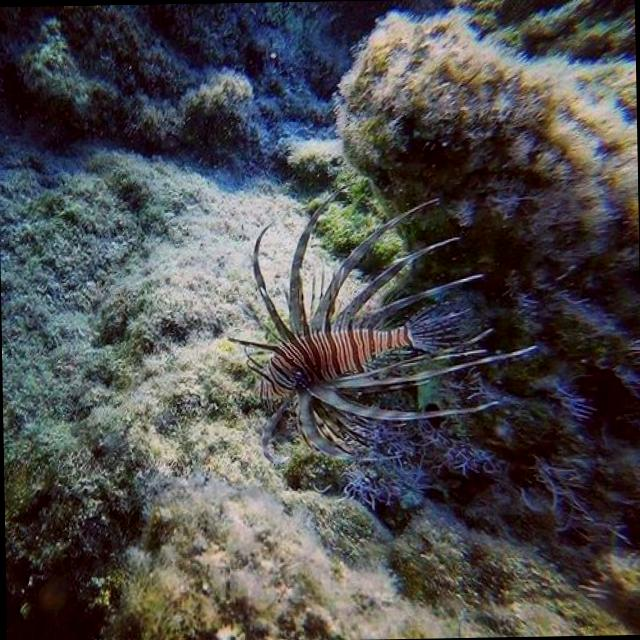Aslan Baligi: (223, 176, 539, 468)
